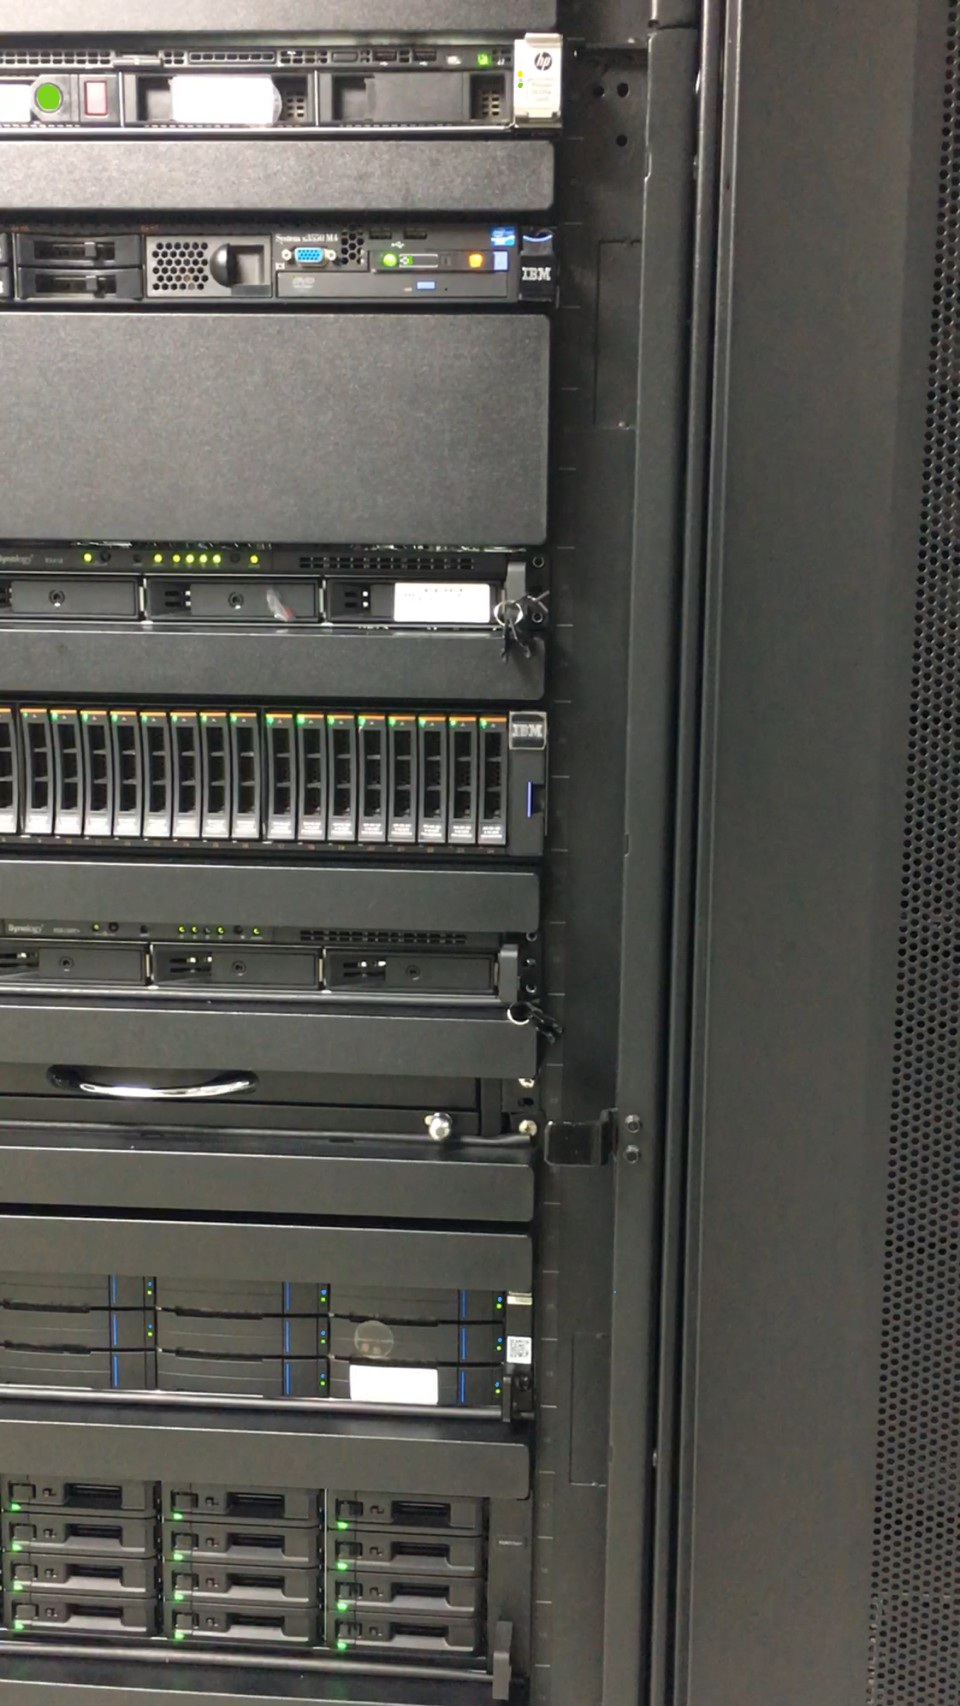HDD_Notused: (12, 264, 148, 311), (11, 228, 144, 265)
